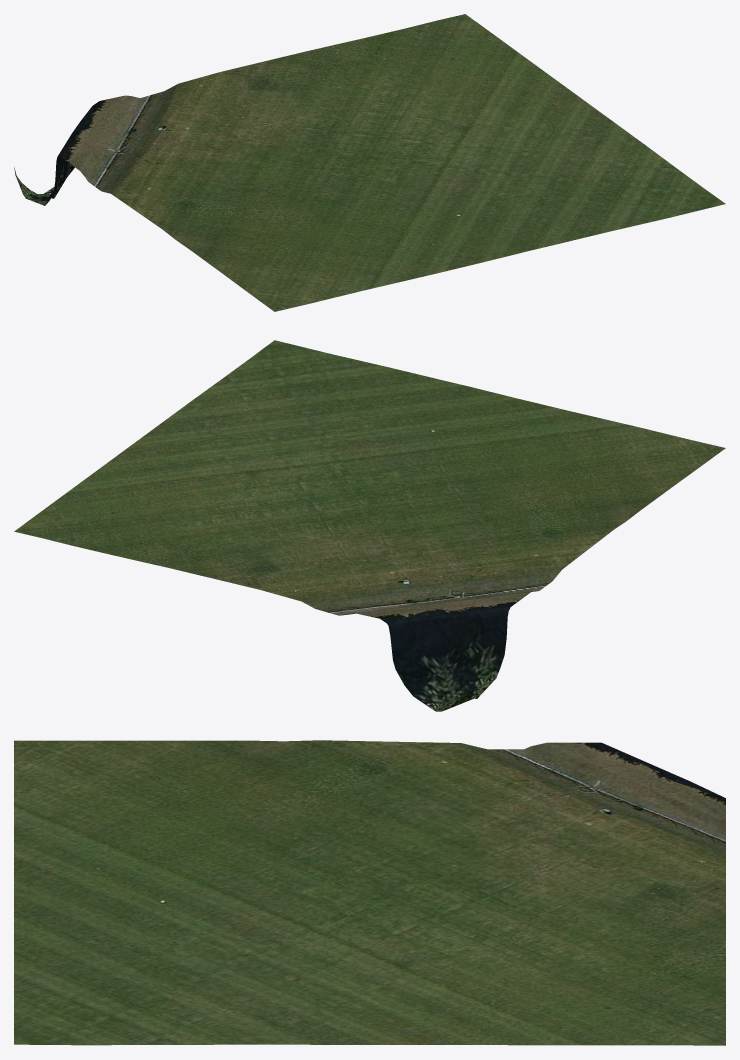
File: map_15_8179_13787.dae
3 renders of one model, top to bottom at view 1: azimuth 30°, elevation 25°; view 2: azimuth 150°, elevation 25°; view 3: azimuth 270°, elevation 25°, orthographic. The views are drawn at different scales.
Parts seen in each view (by area): view 1: Ter0; view 2: Ter0; view 3: Ter0.
Boxes of the visible parts, x1,y1,x2,y2 form: Ter0: (14,14,725,311); Ter0: (14,340,725,711); Ter0: (14,740,725,1045).
Bounding box in the file's own units: 63.87 × 63.88 × 10.87.
3 materials, 3 textured.
